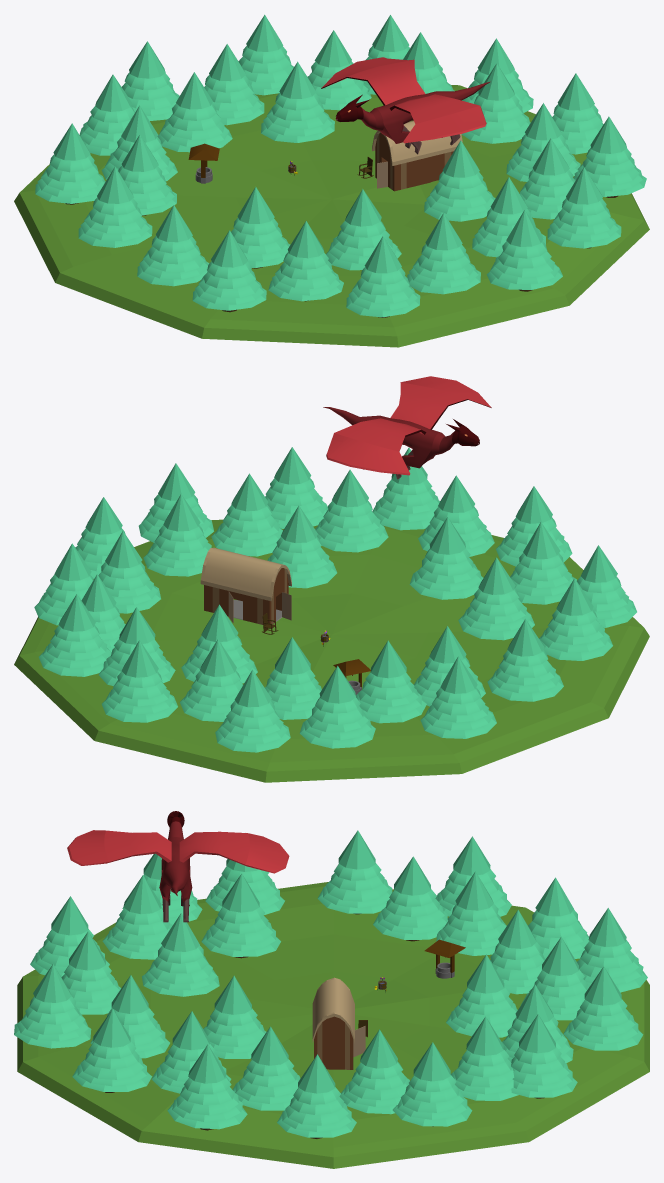
The picture shows the model from 3 angles, top to bottom: view 1: azimuth 30°, elevation 25°; view 2: azimuth 150°, elevation 25°; view 3: azimuth 270°, elevation 25°; orthographic projection. The views are drawn at different scales.
Parts seen in each view (by area): view 1: pSphere1, Dragon:pCylinder1, polySurface32, polySurface33, polySurface12, Hut:pCube1, polySurface20, polySurface15, polySurface31, polySurface34, polySurface14, polySurface13 (+22 smaller); view 2: pSphere1, Dragon:pCylinder1, Hut:pCube1, polySurface10, polySurface12, polySurface11, polySurface22, polySurface21, polySurface16, polySurface26, polySurface13, polySurface30 (+21 smaller); view 3: pSphere1, Dragon:pCylinder1, polySurface35, polySurface22, polySurface29, polySurface34, polySurface28, polySurface25, polySurface33, Hut:pCube1, polySurface26, polySurface24 (+22 smaller).
Part boxes in pixels (x1,y1,x2,y2): pSphere1: [14, 85, 649, 347]; Dragon:pCylinder1: [321, 57, 490, 154]; polySurface32: [346, 236, 420, 317]; polySurface33: [547, 167, 621, 248]; polySurface12: [78, 166, 152, 247]; Hut:pCube1: [372, 121, 462, 191]; polySurface20: [261, 61, 334, 142]; polySurface15: [407, 213, 480, 294]; polySurface31: [192, 230, 266, 312]; polySurface34: [486, 209, 562, 291]; polySurface14: [268, 221, 343, 301]; polySurface13: [137, 205, 209, 286]; pSphere1: [14, 519, 649, 782]; Dragon:pCylinder1: [323, 376, 491, 479]; Hut:pCube1: [200, 547, 291, 624]; polySurface10: [299, 666, 375, 748]; polySurface12: [487, 619, 563, 701]; polySurface11: [420, 656, 496, 738]; polySurface22: [101, 640, 177, 722]; polySurface21: [215, 669, 290, 752]; polySurface16: [315, 469, 388, 552]; polySurface26: [409, 517, 483, 599]; polySurface13: [539, 578, 612, 660]; polySurface30: [38, 594, 111, 676]; pSphere1: [17, 882, 649, 1168]; Dragon:pCylinder1: [67, 811, 289, 922]; polySurface35: [167, 1044, 247, 1130]; polySurface22: [563, 966, 643, 1050]; polySurface29: [392, 1042, 472, 1126]; polySurface34: [14, 964, 91, 1048]; polySurface28: [277, 1054, 356, 1138]; polySurface25: [201, 873, 280, 958]; polySurface33: [72, 1008, 152, 1092]; Hut:pCube1: [312, 977, 365, 1069]; polySurface26: [142, 913, 219, 996]; polySurface24: [373, 856, 447, 941].
Size of the model in its own units: 20.79 by 6.82 by 19.88.
